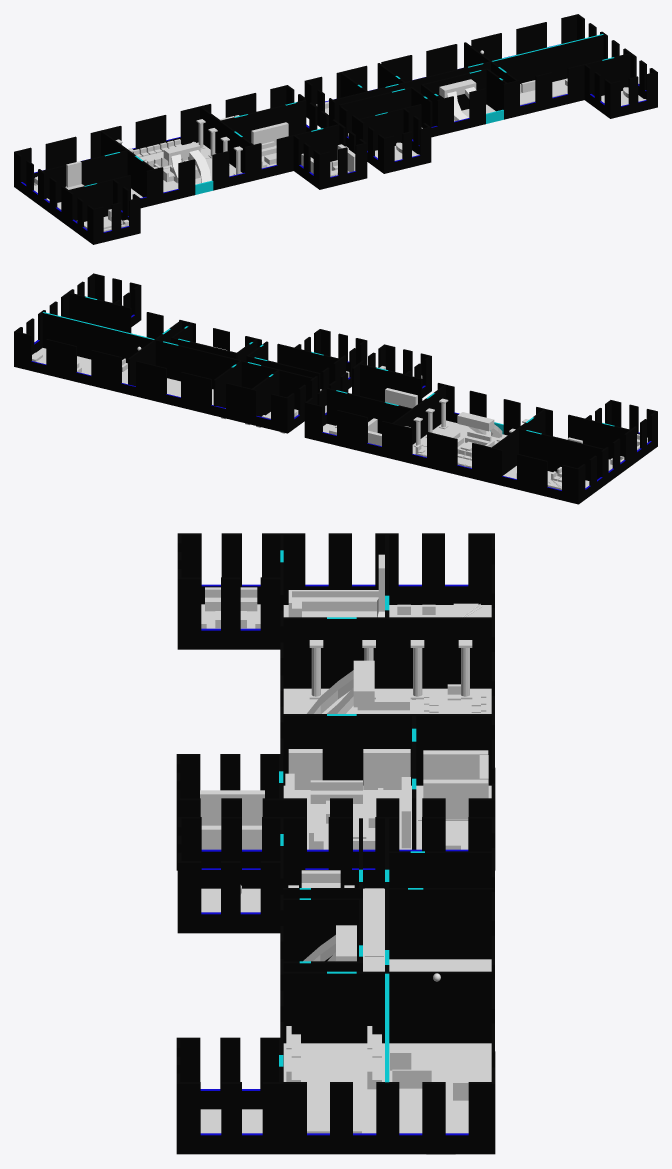
The model's file is BLOCAGEM 02.fbx.
3 renders of one model, top to bottom at view 1: azimuth 30°, elevation 25°; view 2: azimuth 150°, elevation 25°; view 3: azimuth 270°, elevation 25°, orthographic. The views are drawn at different scales.
Visible parts, largest first — view 1: Cube, Cube.083, Cube.099, Cube.053, Cube.036, Cube.091, Cube.050, Cube.037, Cube.084, Cube.072, Cube.018, Cube.097 (+12 smaller); view 2: Cube, Cube.083, Cube.099, Cube.036, Cube.085, Cube.053, Cube.089, Cube.072, Cube.084, Cube.050, Cube.037, Cube.088 (+8 smaller); view 3: Cube.083, Cube, Cube.088, Cube.037, Plane.001, Cube.050, Cube.086, Cube.090, Cube.096, Plane, Cube.018, Cube.038 (+14 smaller).
Part boxes in pixels (bbox=[...]): Cube: bbox=[14, 85, 367, 244]; Cube.083: bbox=[304, 14, 657, 173]; Cube.099: bbox=[492, 34, 603, 84]; Cube.053: bbox=[221, 100, 306, 142]; Cube.036: bbox=[42, 150, 127, 202]; Cube.091: bbox=[339, 87, 411, 132]; Cube.050: bbox=[200, 106, 253, 172]; Cube.037: bbox=[101, 131, 153, 197]; Cube.084: bbox=[586, 53, 630, 95]; Cube.072: bbox=[295, 124, 339, 164]; Cube.018: bbox=[163, 142, 210, 184]; Cube.097: bbox=[423, 69, 486, 110]; Cube: bbox=[304, 344, 657, 504]; Cube.083: bbox=[14, 273, 367, 433]; Cube.099: bbox=[42, 312, 154, 363]; Cube.036: bbox=[519, 428, 603, 480]; Cube.085: bbox=[155, 339, 240, 389]; Cube.053: bbox=[326, 388, 411, 433]; Cube.089: bbox=[241, 360, 313, 409]; Cube.072: bbox=[360, 363, 404, 401]; Cube.084: bbox=[69, 292, 113, 328]; Cube.050: bbox=[392, 385, 445, 444]; Cube.037: bbox=[492, 409, 545, 475]; Cube.088: bbox=[128, 320, 181, 386]; Cube.083: bbox=[176, 817, 495, 1154]; Cube: bbox=[176, 533, 495, 870]; Cube.088: bbox=[283, 971, 491, 1043]; Cube.037: bbox=[283, 617, 491, 688]; Plane.001: bbox=[200, 888, 491, 1133]; Cube.050: bbox=[283, 714, 491, 785]; Cube.086: bbox=[385, 888, 493, 959]; Cube.090: bbox=[389, 851, 492, 887]; Cube.096: bbox=[283, 898, 362, 961]; Plane: bbox=[283, 605, 491, 849]; Cube.018: bbox=[307, 660, 374, 713]; Cube.038: bbox=[288, 590, 378, 617].
Size of the model in its own units: 12445 by 813 by 3039.
